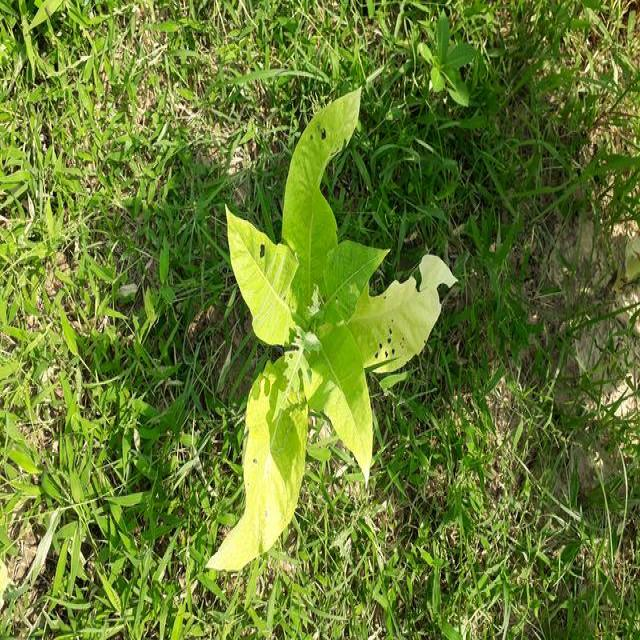crop: (209, 93, 455, 586)
